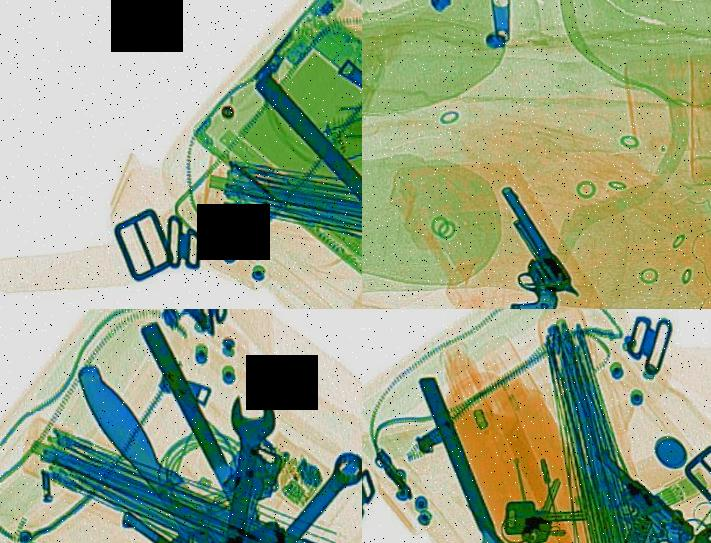Gun: (437, 175, 595, 309), (112, 438, 304, 543), (525, 437, 711, 543)
Knife: (63, 342, 273, 543), (140, 309, 289, 543), (249, 58, 362, 309), (410, 364, 549, 543), (461, 501, 585, 543)
Wrench: (170, 385, 303, 543), (174, 437, 362, 543)
